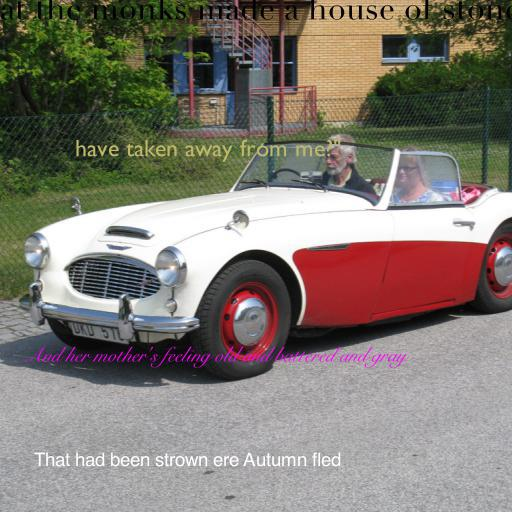Apple Chancery: (33, 452, 341, 467)
Didot: (0, 0, 512, 20)
Gill Sans: (75, 139, 341, 162)
Snell Roundhand: (22, 346, 406, 369)
